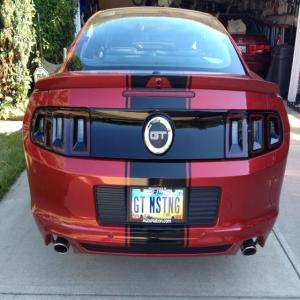Plate: (130, 186, 185, 224)
